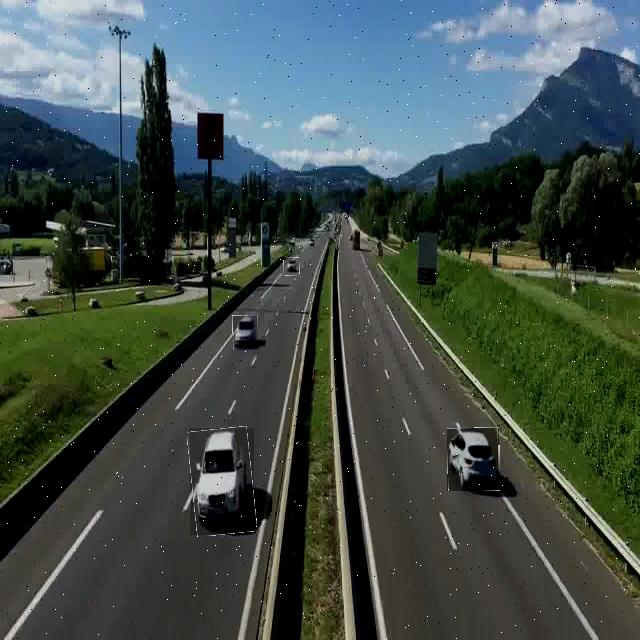Car: (190, 428, 254, 535), (448, 428, 500, 491), (233, 315, 258, 350), (284, 258, 300, 276)
